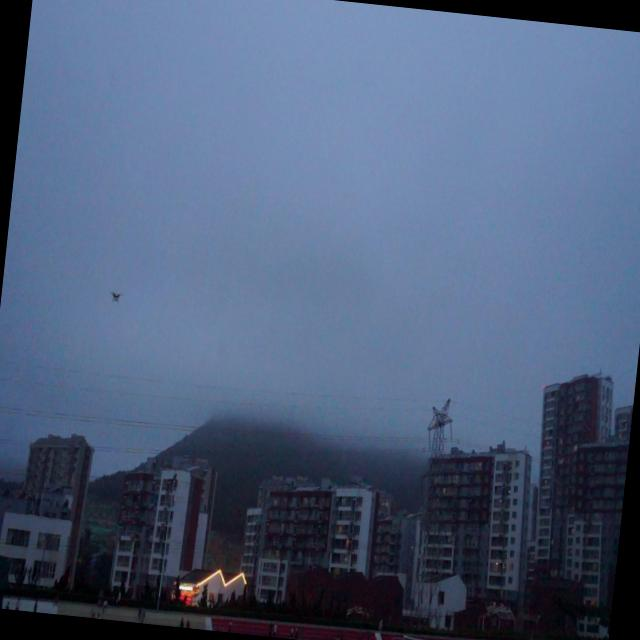drone: (106, 283, 126, 310)
